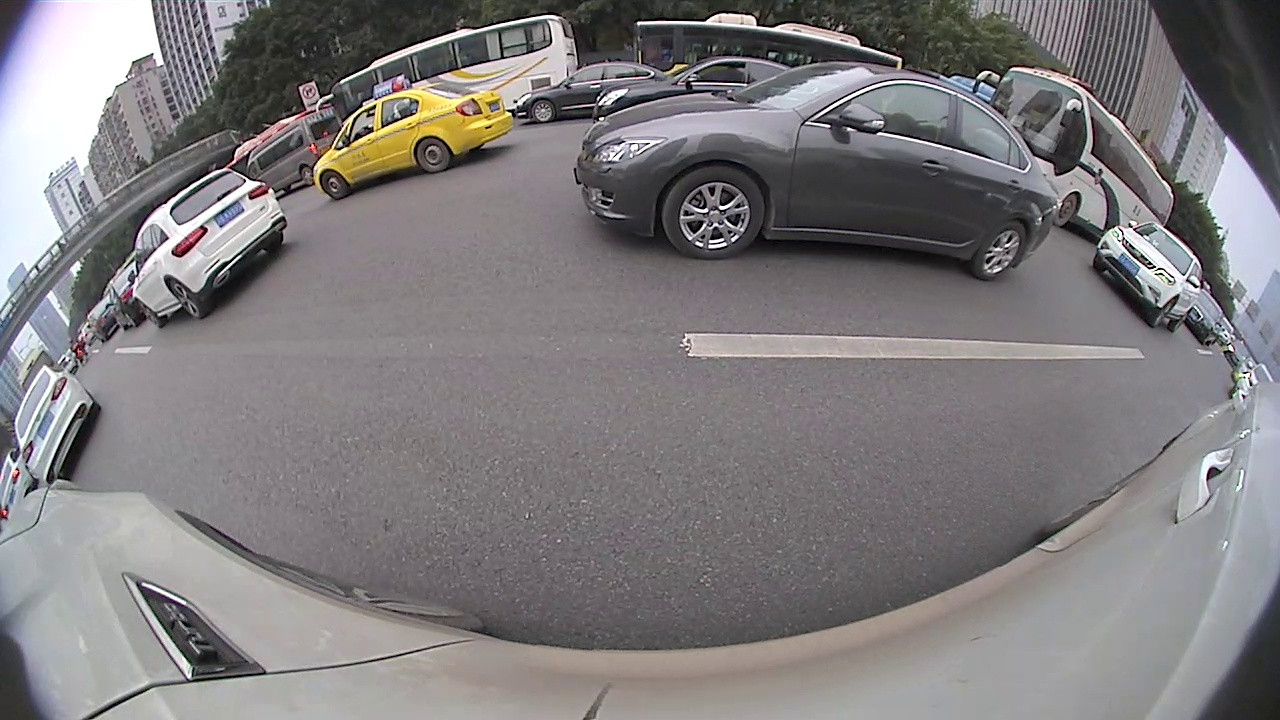bus: (970, 65, 1175, 244), (631, 7, 899, 76), (229, 104, 323, 172), (10, 346, 56, 400)
car: (576, 58, 1059, 281), (315, 14, 579, 114), (127, 166, 289, 328), (315, 79, 512, 203), (592, 52, 799, 121), (1092, 219, 1205, 333), (13, 366, 98, 485), (517, 61, 672, 121), (244, 105, 342, 190), (105, 251, 147, 328), (1187, 289, 1225, 355), (0, 449, 36, 512), (84, 289, 121, 339), (1234, 361, 1271, 400)
front: (662, 166, 764, 256), (1053, 194, 1080, 225), (1149, 297, 1177, 326), (138, 300, 166, 326), (320, 171, 348, 197), (530, 99, 555, 122)
rear: (974, 222, 1024, 278), (167, 277, 209, 316), (417, 138, 449, 172), (1168, 308, 1191, 332), (302, 166, 315, 185)
